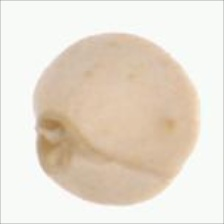L3: (32, 108, 93, 172)
L4: (33, 33, 202, 207)
